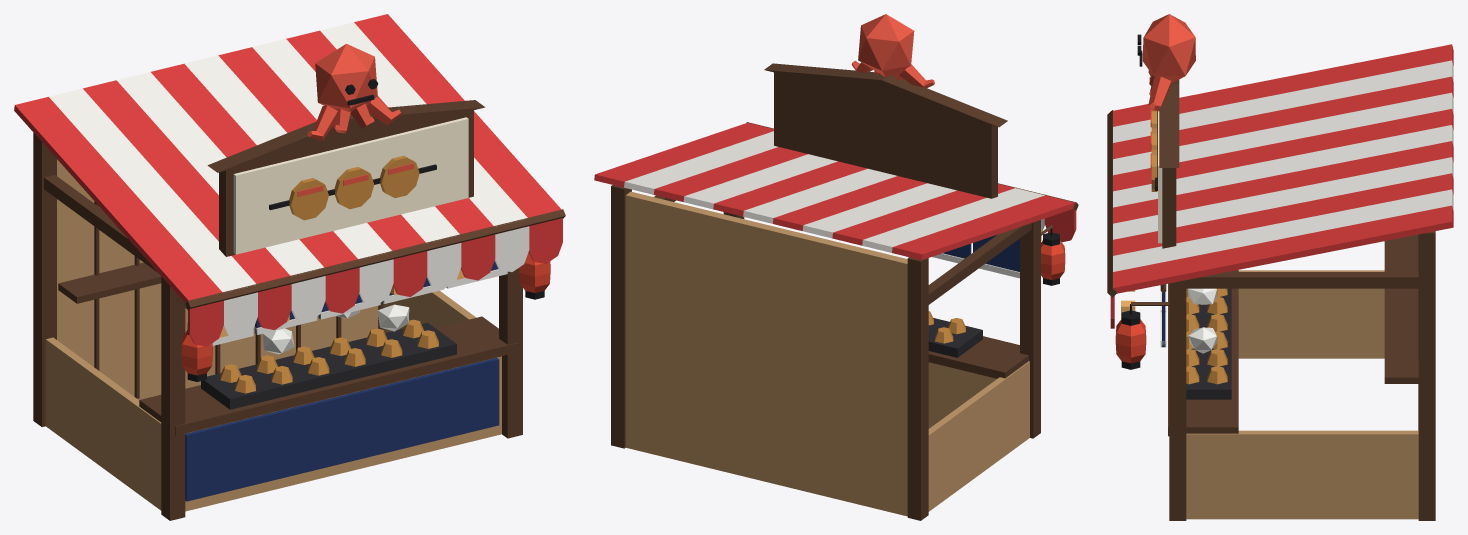
Rendered from stall-takoyaki.glb.
3 views of the same model, side by side, from view 1: azimuth 30°, elevation 25°; view 2: azimuth 150°, elevation 25°; view 3: azimuth 270°, elevation 25° (orthographic). The views are drawn at different scales.
Parts seen in each view (by area): view 1: StallTakoyaki_AwningA, StallTakoyaki_Wood, StallTakoyaki_AwningB, StallTakoyaki_WoodLight, StallTakoyaki_Noren, StallTakoyaki_Sign, StallTakoyaki_Balls, StallTakoyaki_Iron, StallTakoyaki_Octo, StallTakoyaki_Lanterns, StallTakoyaki_Hem, StallTakoyaki_Steam (+1 smaller); view 2: StallTakoyaki_WoodLight, StallTakoyaki_Wood, StallTakoyaki_AwningA, StallTakoyaki_AwningB, StallTakoyaki_Octo, StallTakoyaki_Iron, StallTakoyaki_Noren, StallTakoyaki_Lanterns, StallTakoyaki_Balls; view 3: StallTakoyaki_AwningA, StallTakoyaki_WoodLight, StallTakoyaki_AwningB, StallTakoyaki_Wood, StallTakoyaki_Octo, StallTakoyaki_Balls, StallTakoyaki_Iron, StallTakoyaki_Lanterns, StallTakoyaki_Steam, StallTakoyaki_Sign, StallTakoyaki_Caps.
Boxes of the visible parts, box(x1,y1,x2,y2) form: StallTakoyaki_AwningA: box(14, 14, 562, 346); StallTakoyaki_Wood: box(33, 100, 565, 520); StallTakoyaki_AwningB: box(49, 22, 529, 338); StallTakoyaki_WoodLight: box(45, 159, 501, 511); StallTakoyaki_Noren: box(185, 261, 499, 501); StallTakoyaki_Sign: box(233, 117, 468, 254); StallTakoyaki_Balls: box(220, 155, 438, 393); StallTakoyaki_Iron: box(201, 322, 456, 409); StallTakoyaki_Octo: box(297, 44, 413, 196); StallTakoyaki_Lanterns: box(181, 253, 550, 375); StallTakoyaki_Hem: box(212, 269, 507, 345); StallTakoyaki_Steam: box(263, 304, 409, 354); StallTakoyaki_WoodLight: box(625, 191, 1029, 516); StallTakoyaki_Wood: box(611, 63, 1078, 520); StallTakoyaki_AwningA: box(594, 122, 1076, 260); StallTakoyaki_AwningB: box(624, 131, 1044, 252); StallTakoyaki_Octo: box(851, 14, 934, 87); StallTakoyaki_Iron: box(928, 318, 982, 357); StallTakoyaki_Noren: box(943, 235, 1019, 271); StallTakoyaki_Lanterns: box(1041, 240, 1065, 279); StallTakoyaki_Balls: box(928, 311, 965, 343); StallTakoyaki_AwningA: box(1110, 44, 1453, 328); StallTakoyaki_WoodLight: box(1186, 270, 1418, 519); StallTakoyaki_AwningB: box(1113, 60, 1453, 271); StallTakoyaki_Wood: box(1107, 80, 1435, 520); StallTakoyaki_Octo: box(1142, 14, 1195, 170); StallTakoyaki_Balls: box(1151, 110, 1227, 384); StallTakoyaki_Iron: box(1186, 288, 1231, 399); StallTakoyaki_Lanterns: box(1115, 319, 1146, 363); StallTakoyaki_Steam: box(1188, 288, 1216, 353); StallTakoyaki_Sign: box(1158, 111, 1162, 243); StallTakoyaki_Caps: box(1121, 304, 1140, 369).
Bounding box in the file's own units: 14.9 × 16.47 × 12.21.
